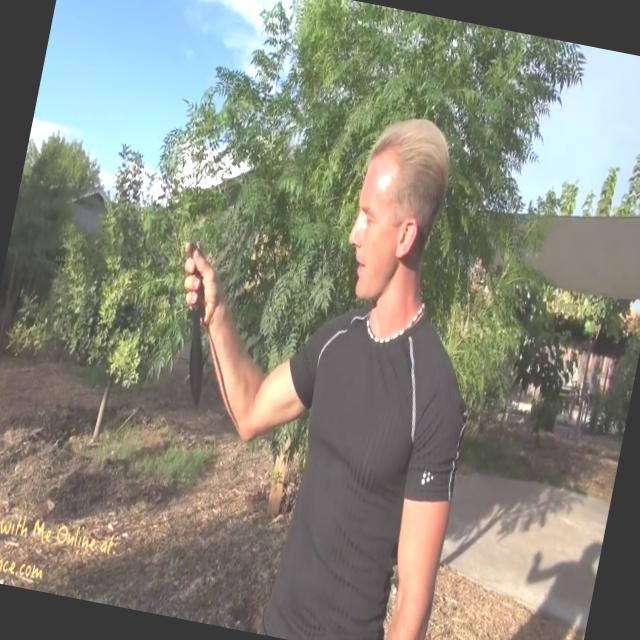knife: (158, 248, 239, 413)
